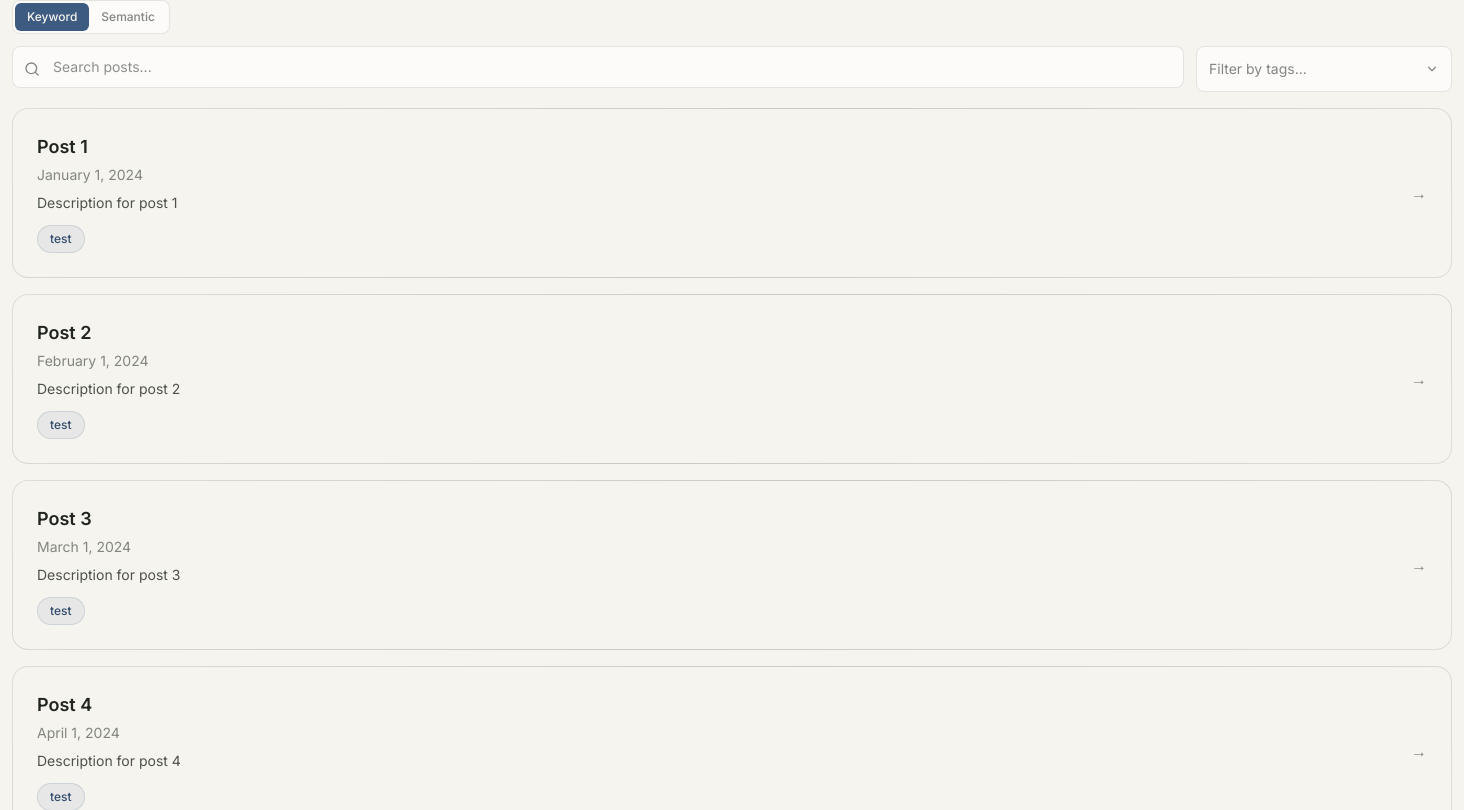
Test case: BlogSearch semantic result limit › shows 'Show more results' button when there are more than 5
The image size is (1464, 810).
Click the radio button labelled "Semantic". click: (128, 17)
box: 89,3 -> 167,31
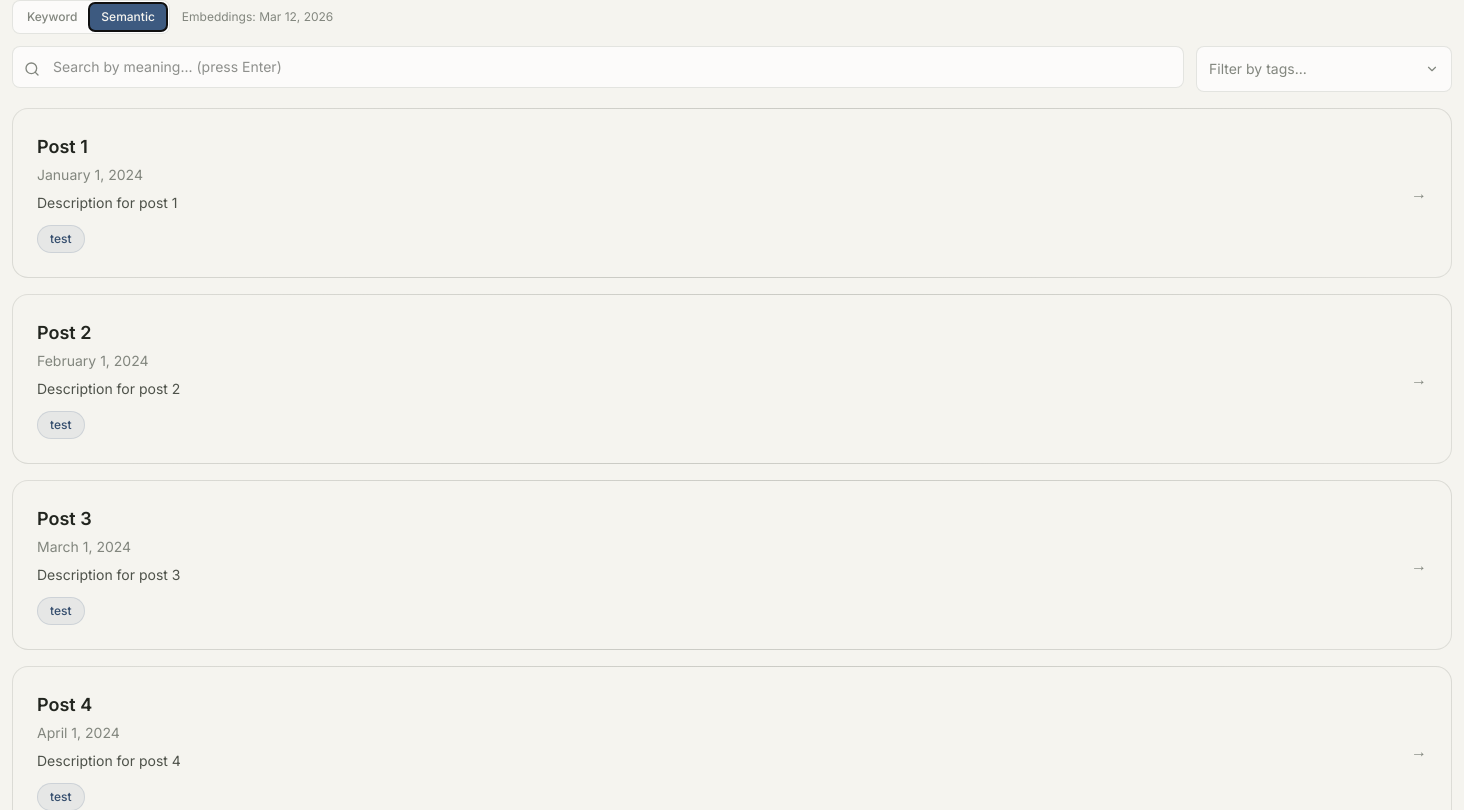
Type "test" into the field with placeholder "Search by meaning... (press Enter)". click: (598, 67)
box: 12,46 -> 1184,88
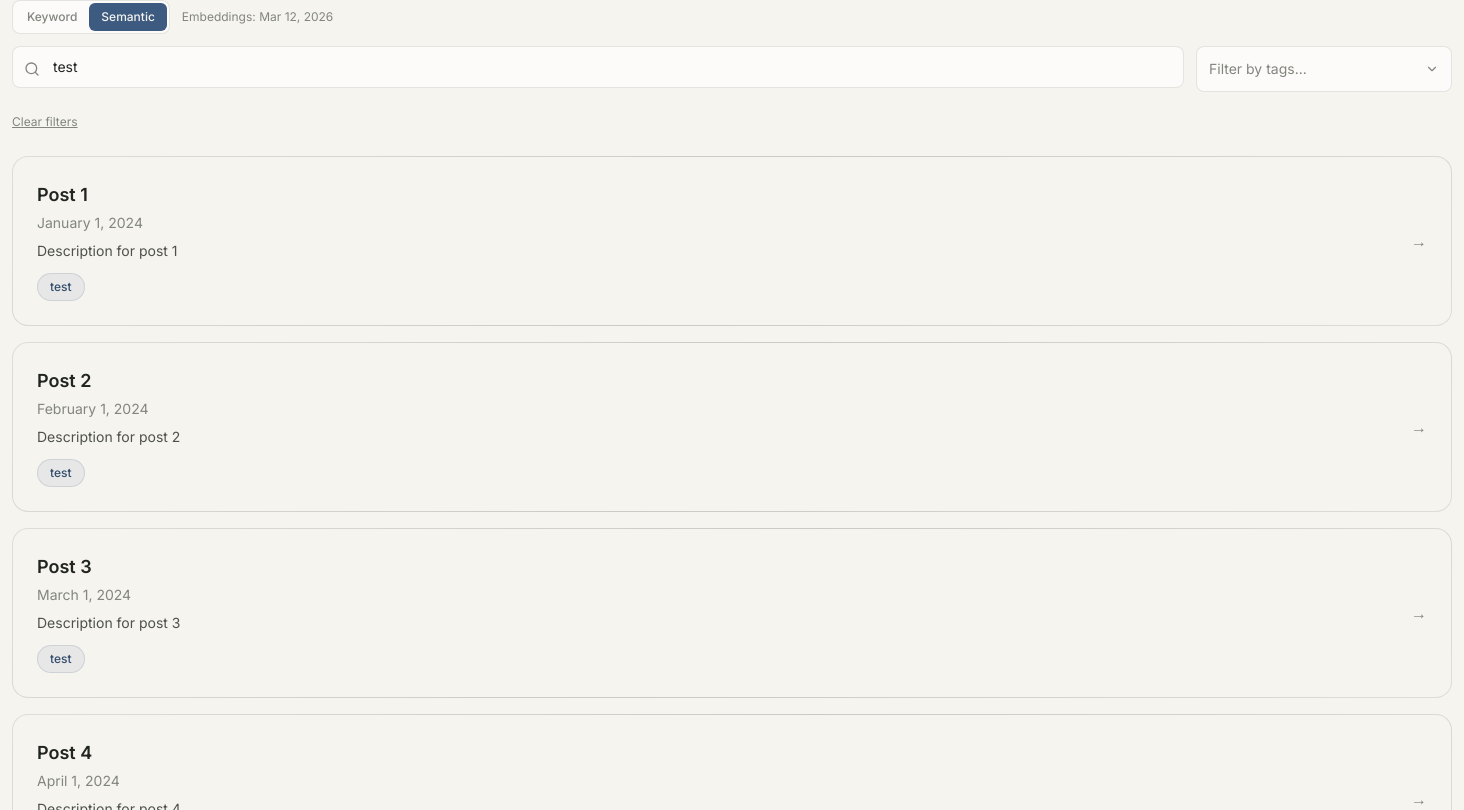
Press Enter
(page scrolled)
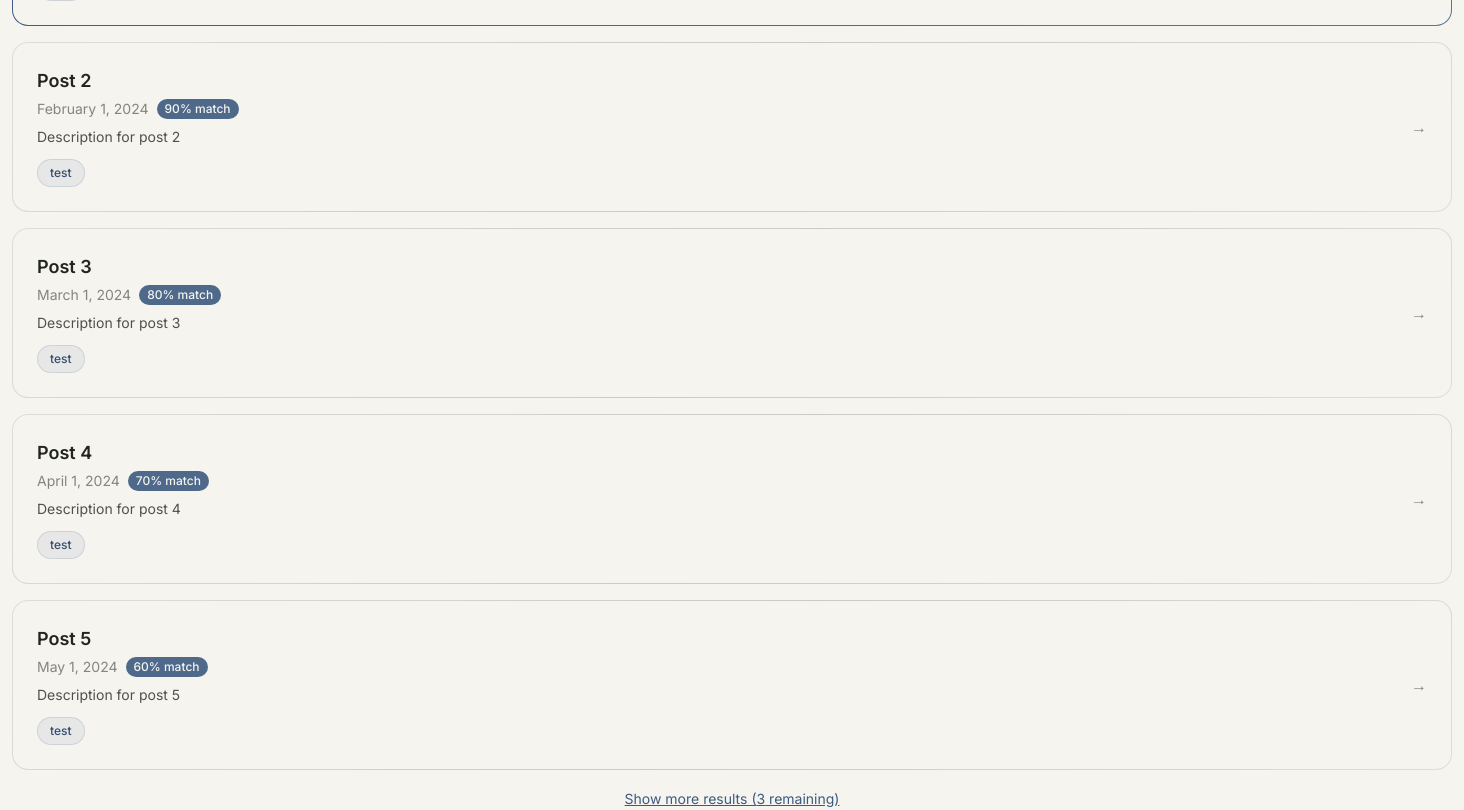
Now the button "Show more results (3 remaining)" is shown, box 625,789 -> 840,809
